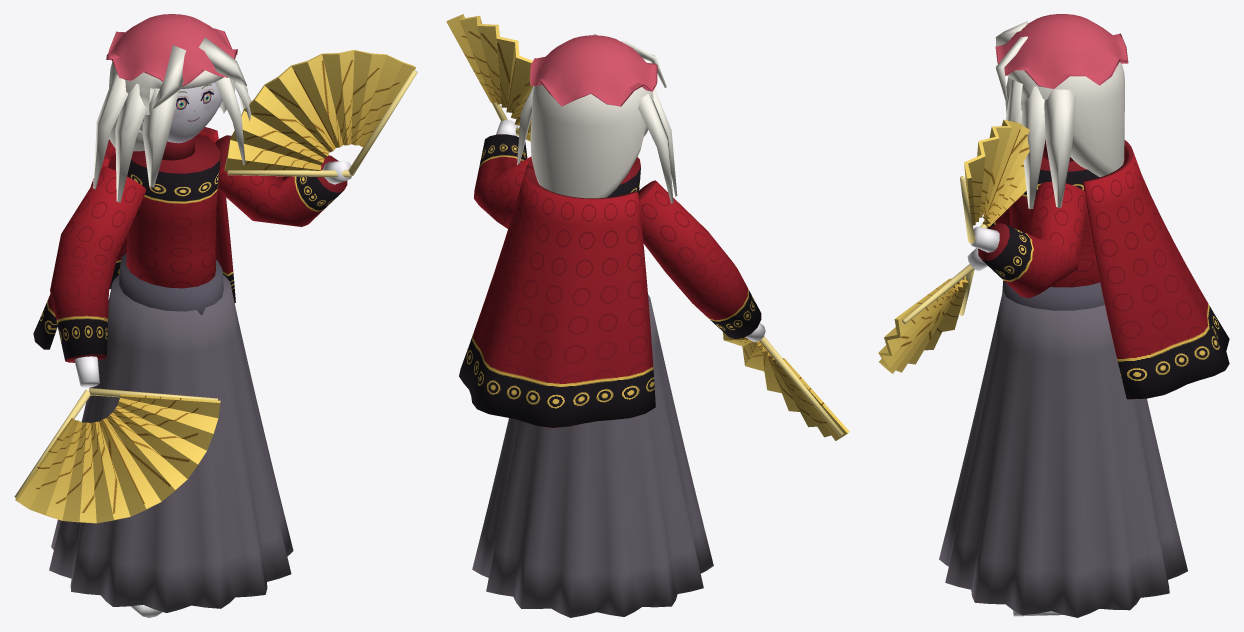
File: douma.glb
The picture shows the model from 3 angles, left to right: view 1: azimuth 30°, elevation 25°; view 2: azimuth 150°, elevation 25°; view 3: azimuth 270°, elevation 25°; orthographic projection. The views are drawn at different scales.
Visible parts, largest first — view 1: Hakama, FanL_leaf, FanR_leaf, Torso, ArmL, BloodCrown, ArmR, Obi, RobeCape, Head, Wave_-1_1, Wave_-1_0 (+11 smaller); view 2: Hakama, RobeCape, HairCrown, ArmL, BloodCrown, FanR_leaf, ArmR, FanL_leaf, Wave_-1_2, FanL_rib_-1, Wave_1_2, Torso (+1 smaller); view 3: Hakama, RobeCape, ArmR, BloodCrown, HairCrown, FanR_leaf, FanL_leaf, Torso, Wave_1_2, Obi, Wave_1_1, FanL (+3 smaller).
Boxes of the visible parts, x1=… form: Hakama: x1=49, y1=274, x2=293, y2=612; FanL_leaf: x1=15, y1=394, x2=220, y2=523; FanR_leaf: x1=224, y1=50, x2=415, y2=171; Torso: x1=126, y1=134, x2=220, y2=288; ArmL: x1=50, y1=166, x2=145, y2=362; BloodCrown: x1=106, y1=14, x2=237, y2=86; ArmR: x1=215, y1=135, x2=347, y2=226; Obi: x1=119, y1=253, x2=223, y2=315; RobeCape: x1=33, y1=127, x2=235, y2=349; Head: x1=143, y1=82, x2=222, y2=143; Wave_-1_1: x1=115, y1=83, x2=153, y2=202; Wave_-1_0: x1=142, y1=87, x2=178, y2=187; Hakama: x1=472, y1=294, x2=713, y2=617; RobeCape: x1=459, y1=165, x2=655, y2=427; HairCrown: x1=530, y1=84, x2=653, y2=198; ArmL: x1=637, y1=180, x2=761, y2=338; BloodCrown: x1=530, y1=35, x2=657, y2=106; FanR_leaf: x1=446, y1=14, x2=532, y2=140; ArmR: x1=474, y1=134, x2=539, y2=228; FanL_leaf: x1=723, y1=332, x2=849, y2=440; Wave_-1_2: x1=638, y1=93, x2=673, y2=203; FanL_rib_-1: x1=759, y1=336, x2=843, y2=436; Wave_1_2: x1=517, y1=86, x2=533, y2=164; Torso: x1=607, y1=157, x2=640, y2=197; Hakama: x1=939, y1=292, x2=1187, y2=617; RobeCape: x1=1083, y1=140, x2=1229, y2=399; ArmR: x1=978, y1=181, x2=1086, y2=298; BloodCrown: x1=995, y1=14, x2=1128, y2=88; HairCrown: x1=1007, y1=62, x2=1124, y2=177; FanR_leaf: x1=964, y1=119, x2=1029, y2=227; FanL_leaf: x1=878, y1=276, x2=968, y2=373; Torso: x1=1009, y1=157, x2=1099, y2=287; Wave_1_2: x1=1044, y1=89, x2=1075, y2=208; Obi: x1=1002, y1=280, x2=1104, y2=310; Wave_1_1: x1=1021, y1=86, x2=1045, y2=209; FanL: x1=902, y1=264, x2=974, y2=324.
Size of the model in its own units: 1.49 by 2 by 1.11.
10 materials, 3 textured.
